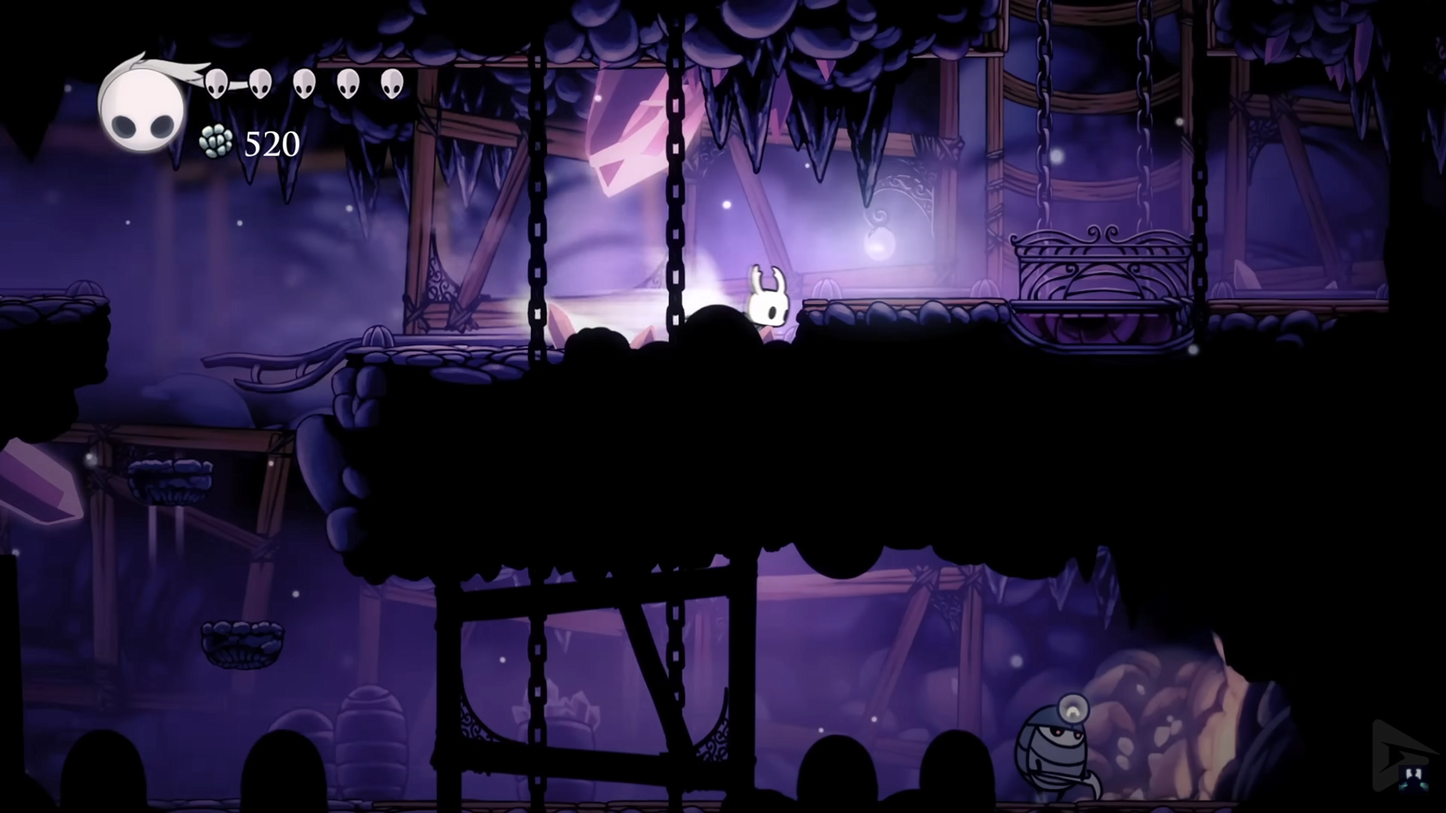HK: (740, 260, 795, 346)
